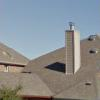Chimney: (58, 17, 82, 85)
